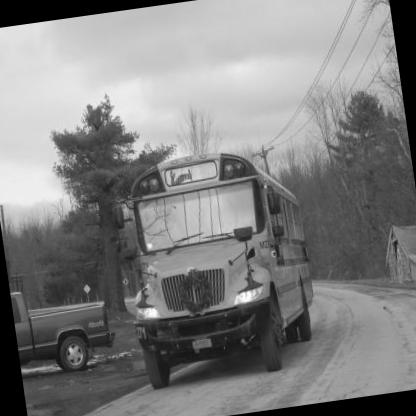bus: (88, 127, 342, 398)
